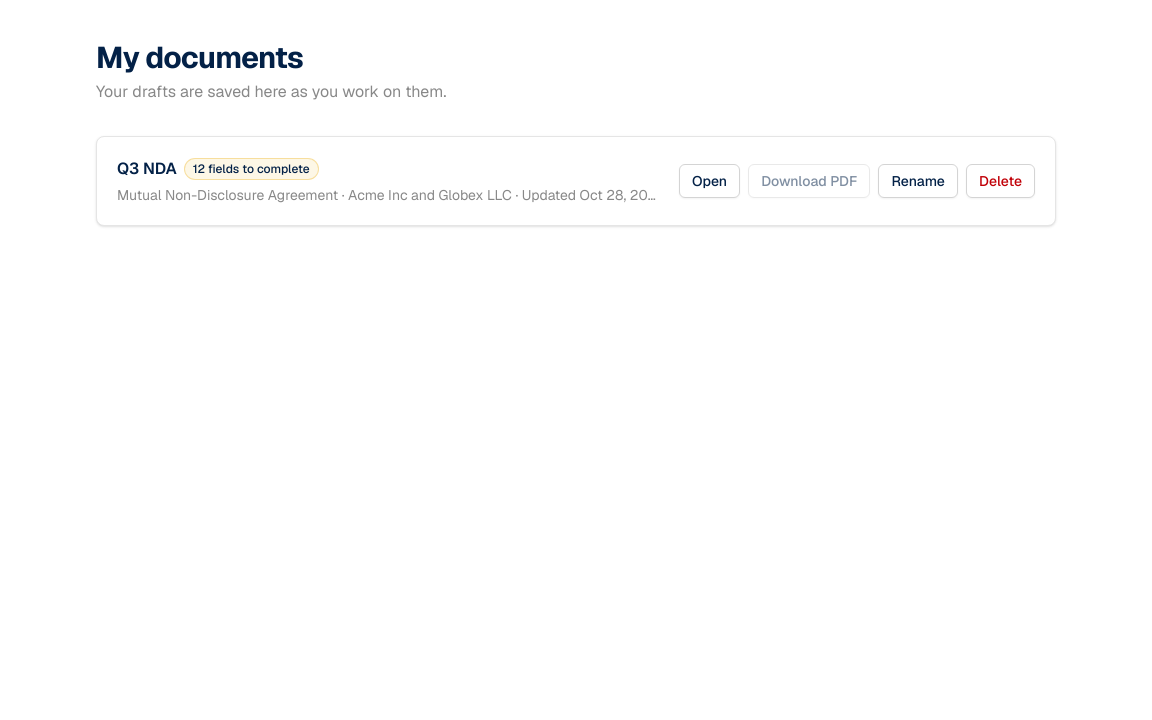
renaming a document › goes back to the default name when the box is cleared
This screenshot has width=1152, height=720.
Click the button "Rename" at (918, 181), box [878,164,958,198]
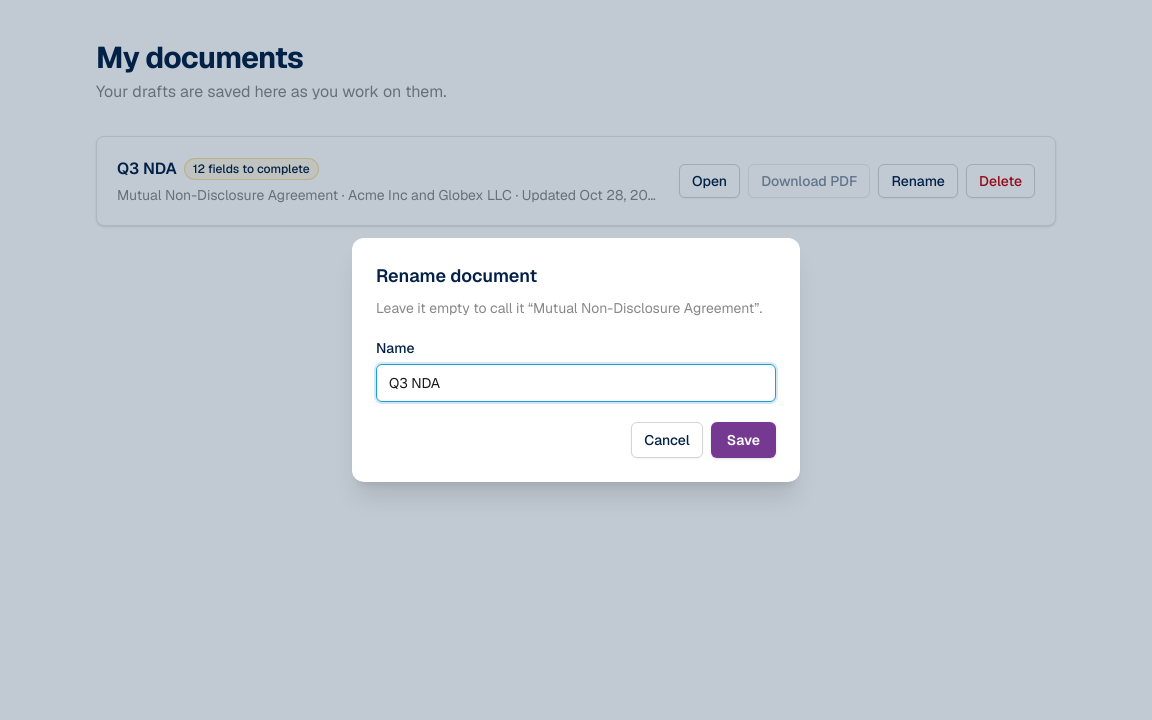
Expected: the field labelled "Name" holds "Q3 NDA"
Clear the field labelled "Name" at (576, 383), box [376,364,776,402]
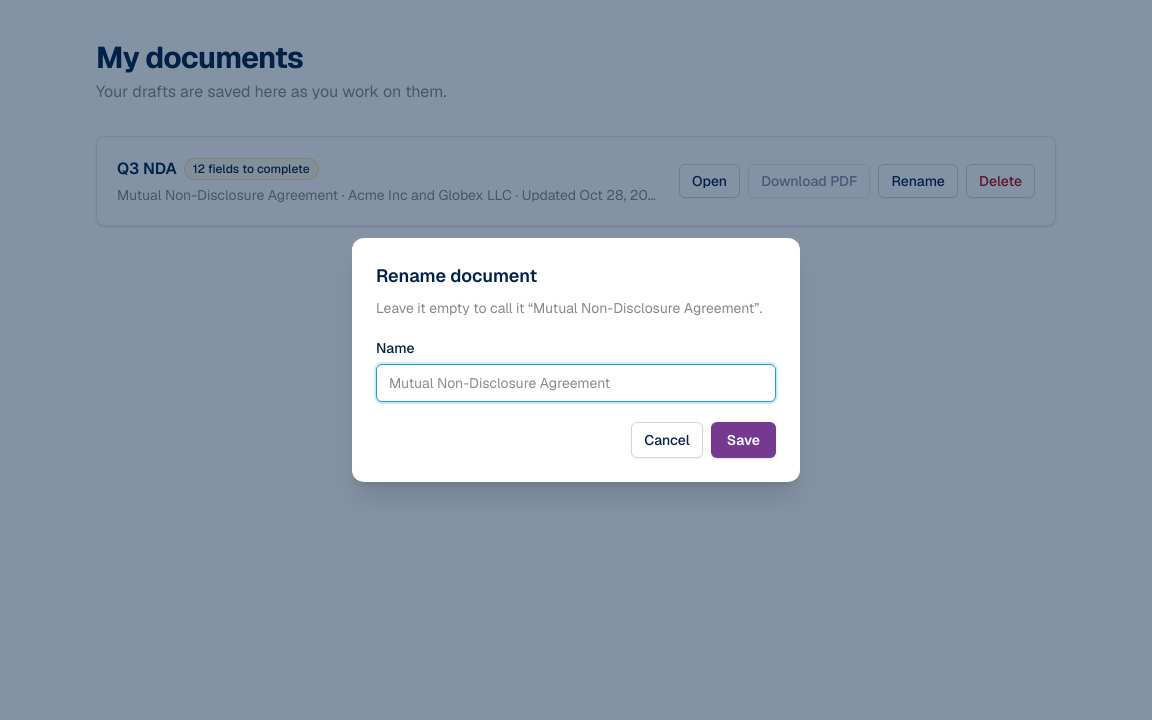
Click the button "Save" at (743, 440), box [711,422,776,458]
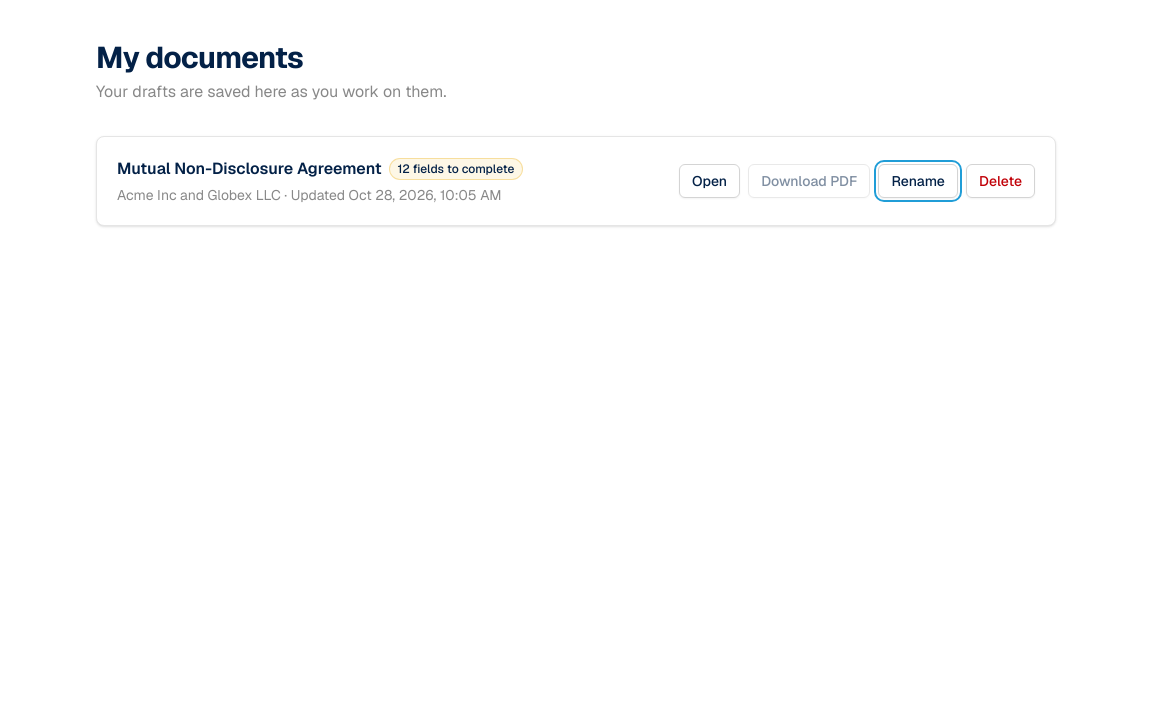
Expected: the link "Mutual Non-Disclosure Agreement" is shown, [117,157,382,181]
Expected: the text "Acme Inc and Globex LLC · Updated Oct 28, 2026, 10:05 AM" is shown, [117,186,502,204]
